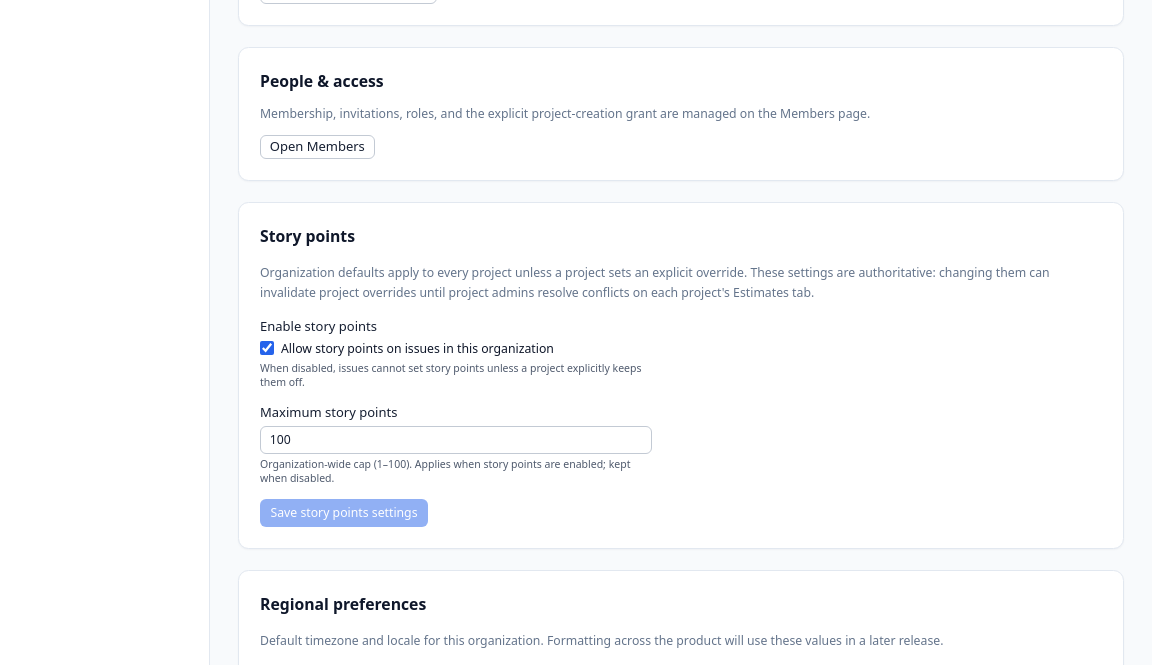
Org story points (General settings) › owner can disable story points without clearing maximum
(page scrolled)
Expected: the number field labelled "Maximum story points" holds "100", [260, 426, 652, 454]
Click the checkbox named "Allow story points": coordinates (267, 348) [260, 341, 274, 355]
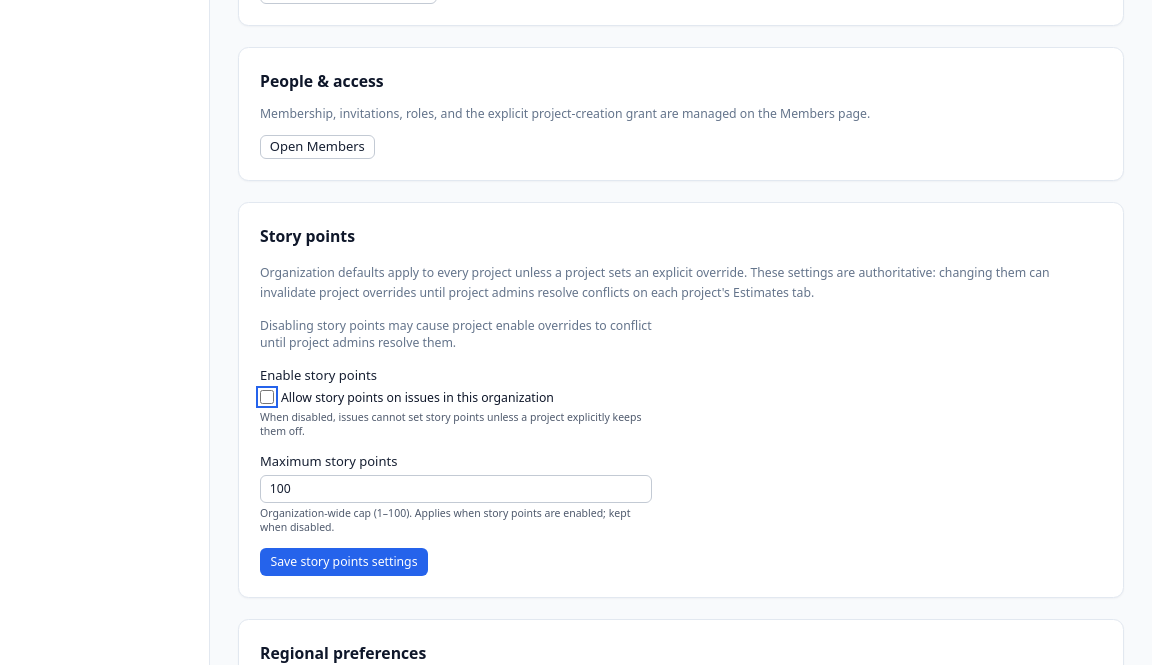
Expected: the number field labelled "Maximum story points" holds "100", [260, 475, 652, 503]
Click the button "Save story points settings": coordinates (344, 562) [260, 548, 428, 576]
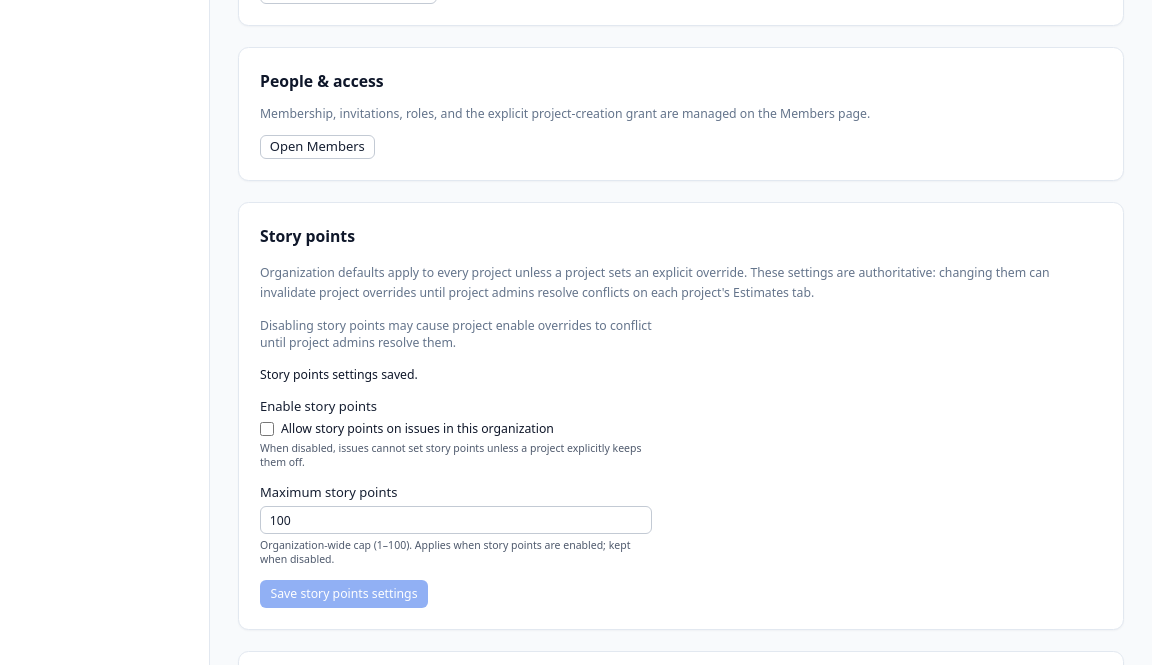
Result: the text "Story points settings saved." is shown at [260, 366, 418, 383]
